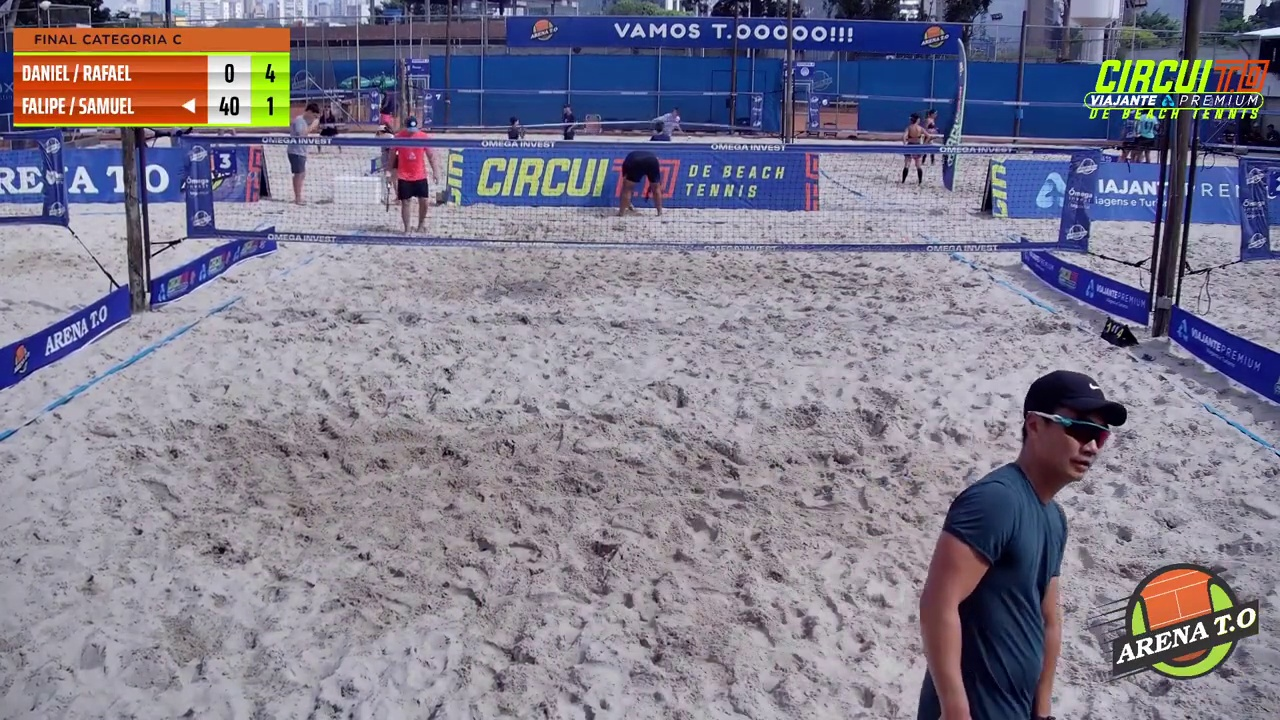court_line: (649, 0, 810, 414)
